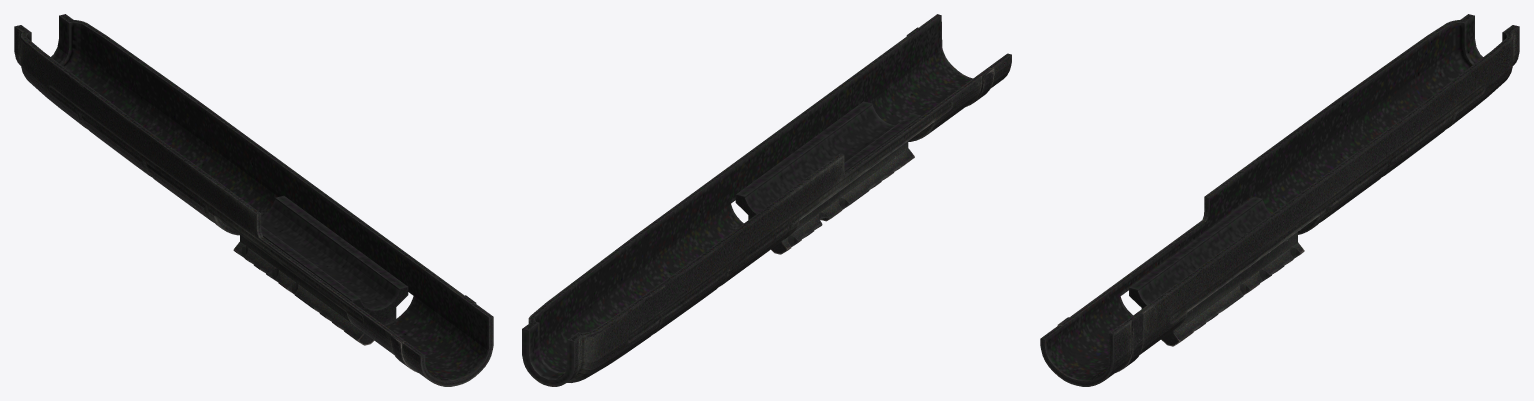
The picture shows the model from 3 angles, left to right: view 1: azimuth 30°, elevation 25°; view 2: azimuth 150°, elevation 25°; view 3: azimuth 330°, elevation 25°; orthographic projection. The views are drawn at different scales.
Parts seen in each view (by area): view 1: TW_5ab24ef9e5b5b00fe93c9209_PZ_Import; view 2: TW_5ab24ef9e5b5b00fe93c9209_PZ_Import; view 3: TW_5ab24ef9e5b5b00fe93c9209_PZ_Import.
Part boxes in pixels (left/top/right/bottom): TW_5ab24ef9e5b5b00fe93c9209_PZ_Import: left=14, top=14, right=493, bottom=386; TW_5ab24ef9e5b5b00fe93c9209_PZ_Import: left=522, top=14, right=1011, bottom=386; TW_5ab24ef9e5b5b00fe93c9209_PZ_Import: left=1040, top=14, right=1519, bottom=386.
Bounding box in the file's own units: 0.0206 × 0.1974 × 0.0195.
1 material, 1 textured.
